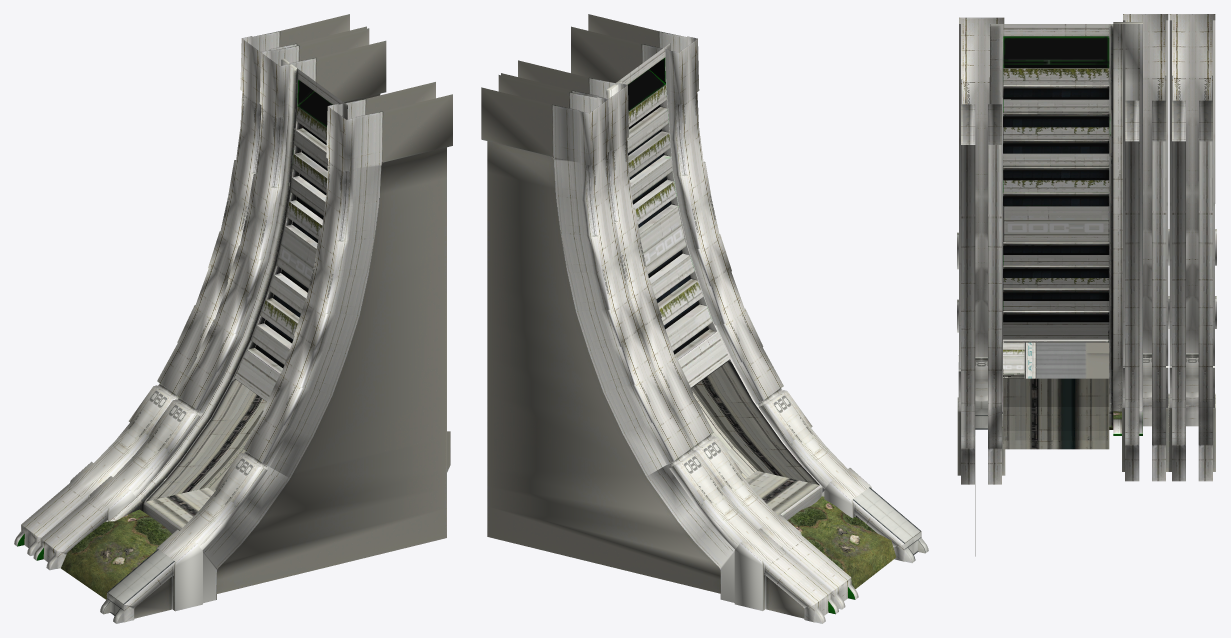
The model's file is STA20_LargeCurveb01.FBX.
3 renders of one model, left to right at view 1: azimuth 30°, elevation 25°; view 2: azimuth 150°, elevation 25°; view 3: azimuth 270°, elevation 25°, orthographic. The views are drawn at different scales.
Visible parts, largest first — view 1: STA20_LargeCurveb01; view 2: STA20_LargeCurveb01; view 3: STA20_LargeCurveb01.
Boxes of the visible parts, x1,y1,x2,y2 form: STA20_LargeCurveb01: (14, 14, 452, 623); STA20_LargeCurveb01: (481, 14, 928, 623); STA20_LargeCurveb01: (957, 14, 1216, 556).
Size of the model in its own units: 136 by 171 by 73.65.
